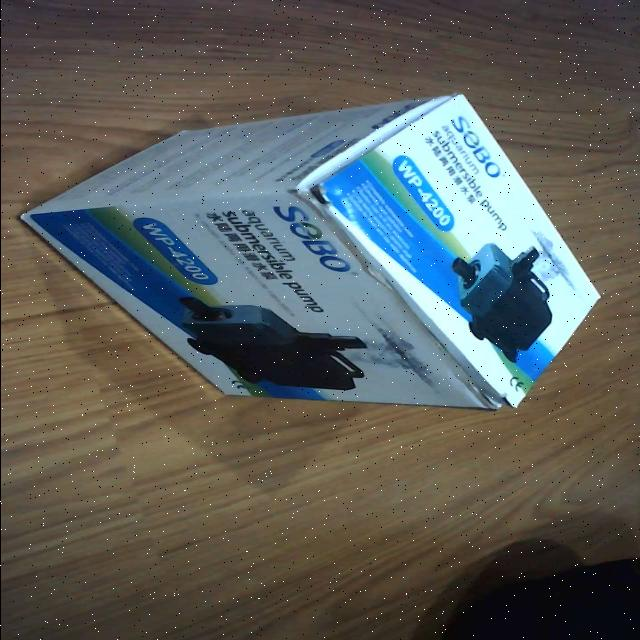SOBO_WP_4200: (11, 92, 612, 416)
